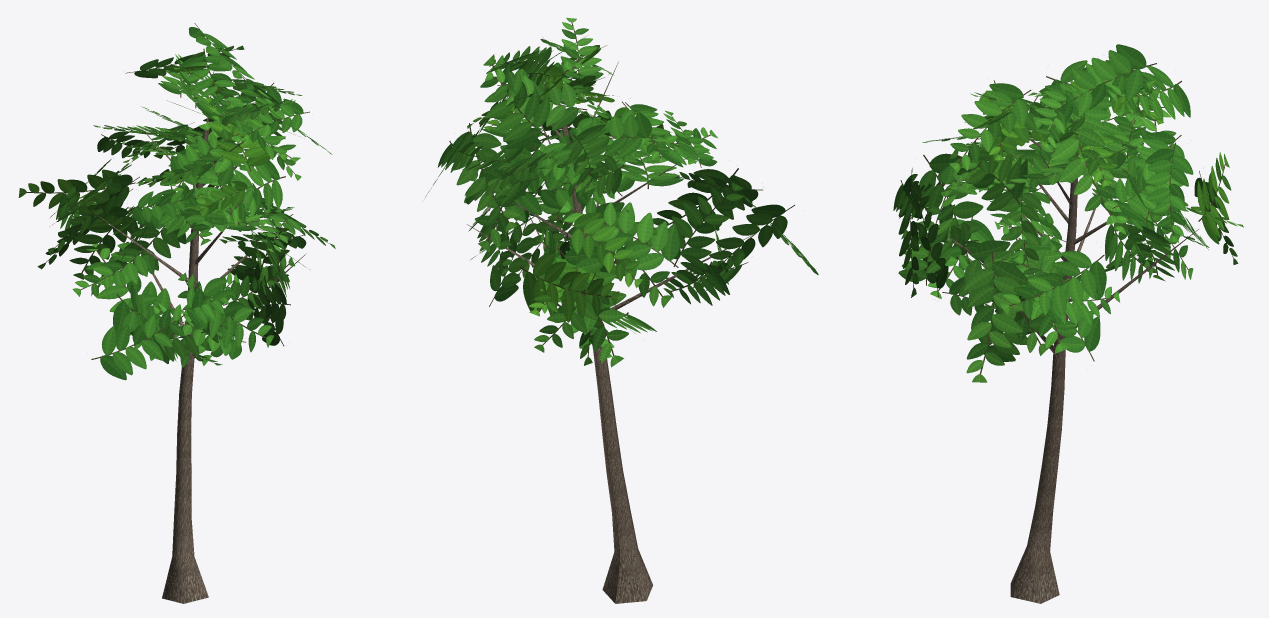
Rendered from copa_b_lo.glb.
3 renders of one model, left to right at view 1: azimuth 30°, elevation 25°; view 2: azimuth 150°, elevation 25°; view 3: azimuth 270°, elevation 25°, orthographic. The views are drawn at different scales.
Parts seen in each view (by area): view 1: copa_b_lo; view 2: copa_b_lo; view 3: copa_b_lo.
Part boxes in pixels (x1,y1,x2,y2): copa_b_lo: (18,23,335,603); copa_b_lo: (425,17,818,603); copa_b_lo: (893,44,1243,603).
Size of the model in its own units: 5.98 by 10.4 by 6.18.
Materials: 2 (2 with a texture image).
